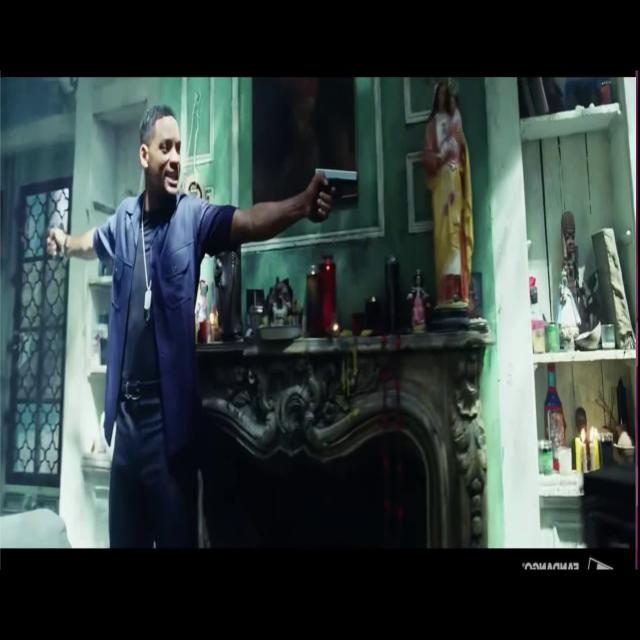weapons: (296, 144, 364, 232)
